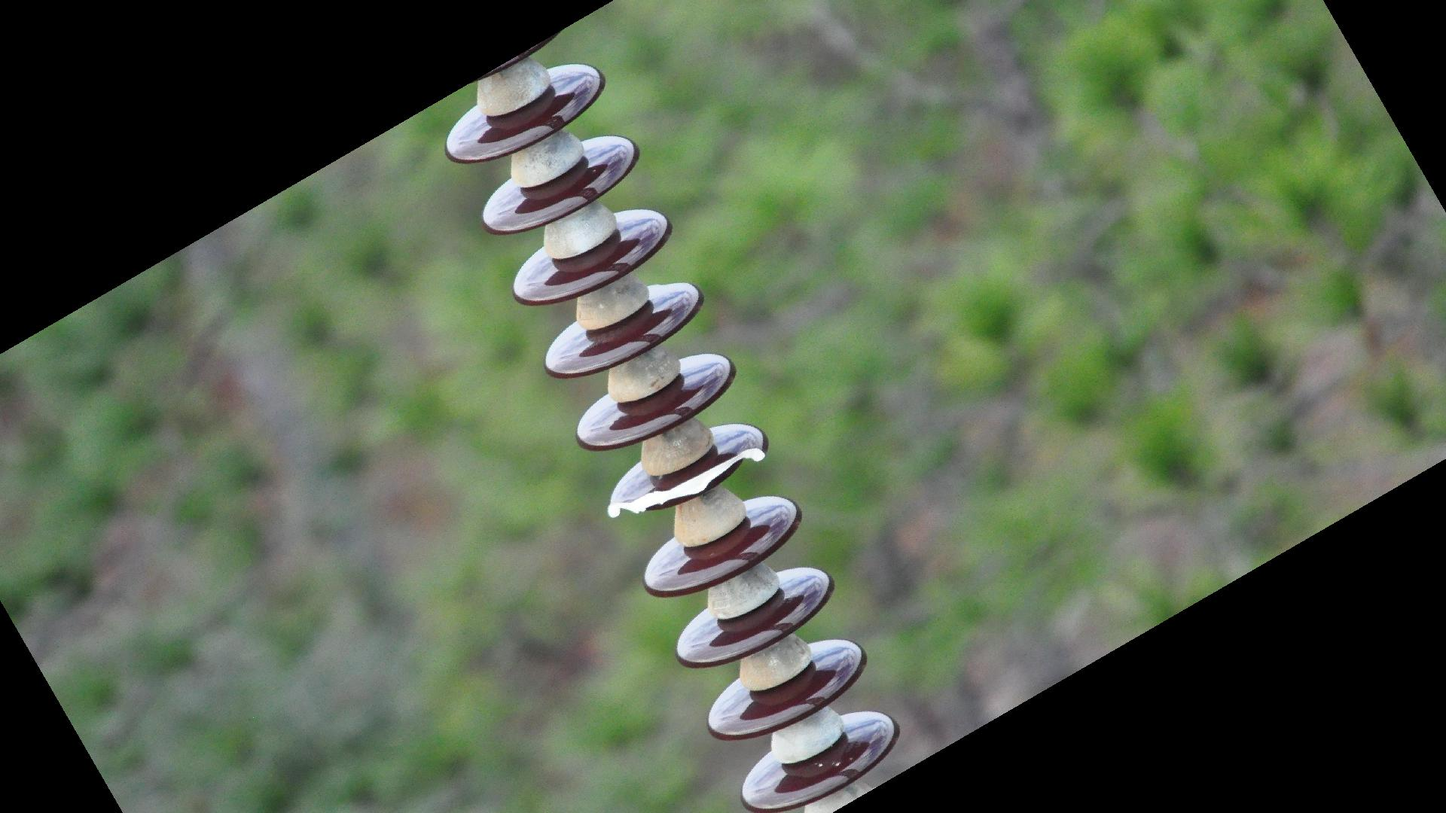insulator: (440, 59, 906, 813)
insulator_breakage: (602, 440, 770, 522)
